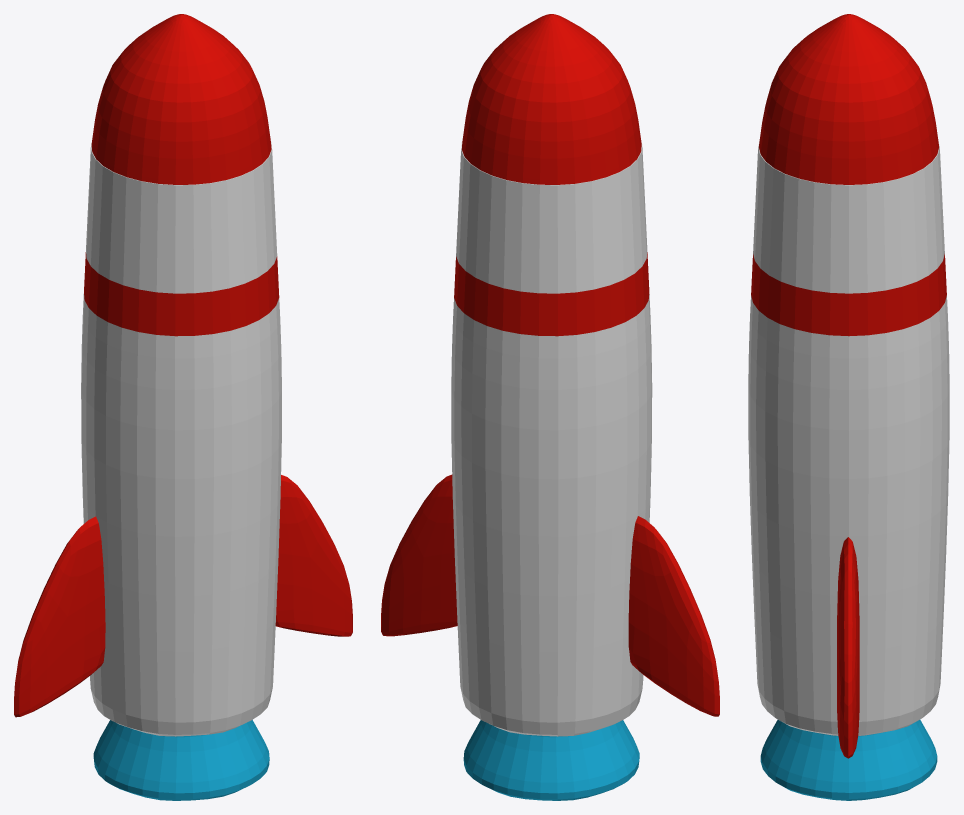
File: rocket.fbx
3 views of the same model, side by side, from view 1: azimuth 30°, elevation 25°; view 2: azimuth 150°, elevation 25°; view 3: azimuth 270°, elevation 25° (orthographic).
Visible parts, largest first — view 1: Rocket; view 2: Rocket; view 3: Rocket.
Part boxes in pixels (box(x1,y1,x2,y2)): Rocket: box(14, 14, 352, 800); Rocket: box(381, 14, 719, 800); Rocket: box(748, 14, 949, 800).
Bounding box in the file's own units: 391 × 835 × 201.
